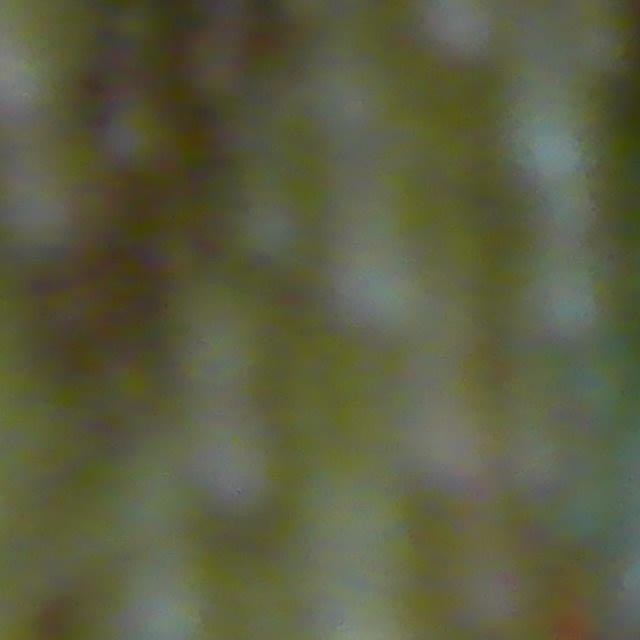SeaGrape: (530, 254, 616, 344)
